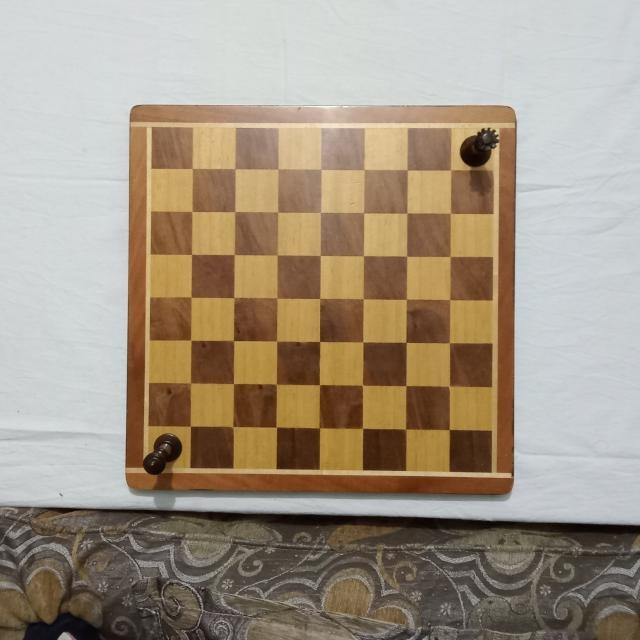black-king: (143, 431, 183, 477)
black-queen: (458, 126, 501, 169)
